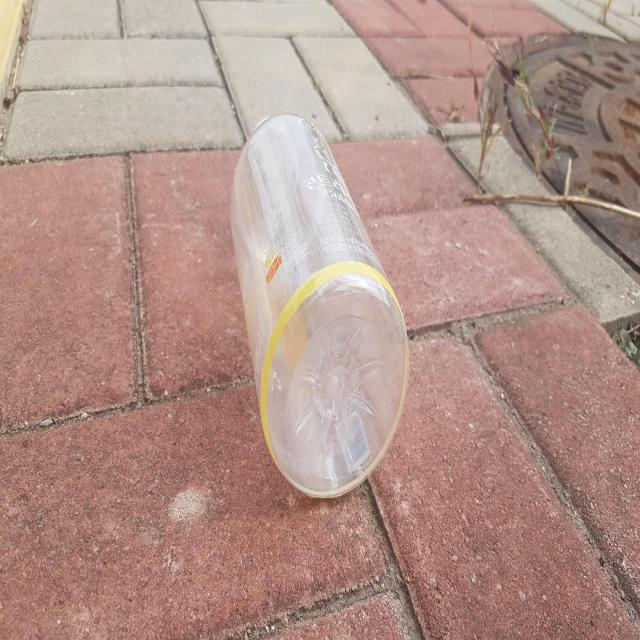plastic: (231, 114, 409, 497)
